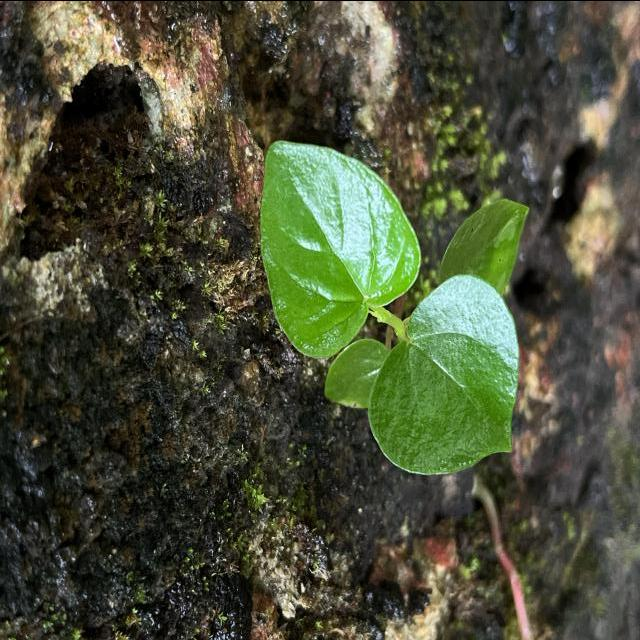Peperomia pellucida: (259, 137, 424, 359), (366, 272, 520, 476)
